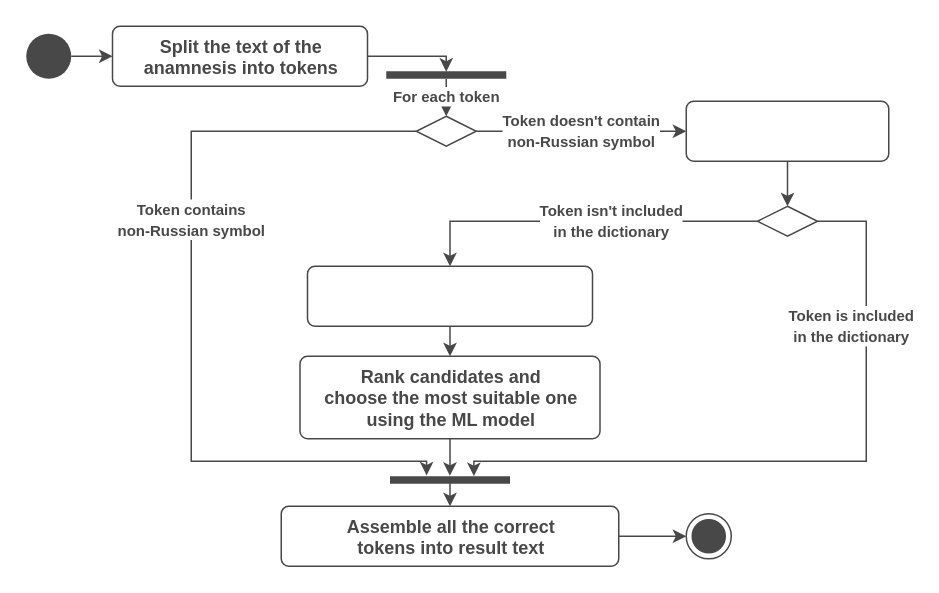
This 939x593 diagram has some shape labels left out. Each missing label, with the box of its shape:
Extract from SymDel index of candidates for correction: (306, 265, 592, 326)
Lemmatize and lowercase token: (685, 100, 889, 161)
